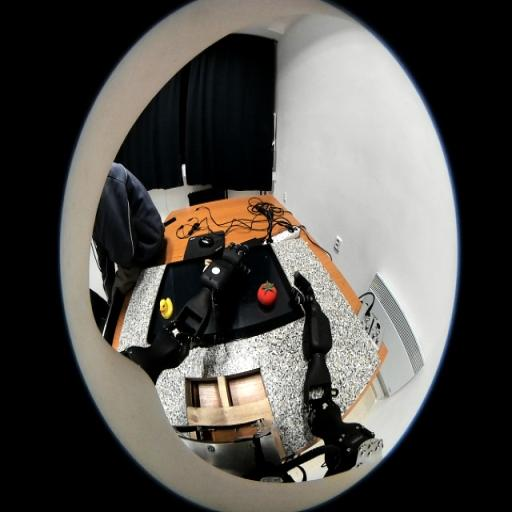Duck: (160, 297, 173, 319)
LeftHand: (223, 247, 240, 264)
Mushroom: (202, 259, 212, 274)
RightHand: (302, 289, 314, 308)
Tomato: (258, 280, 278, 306)
